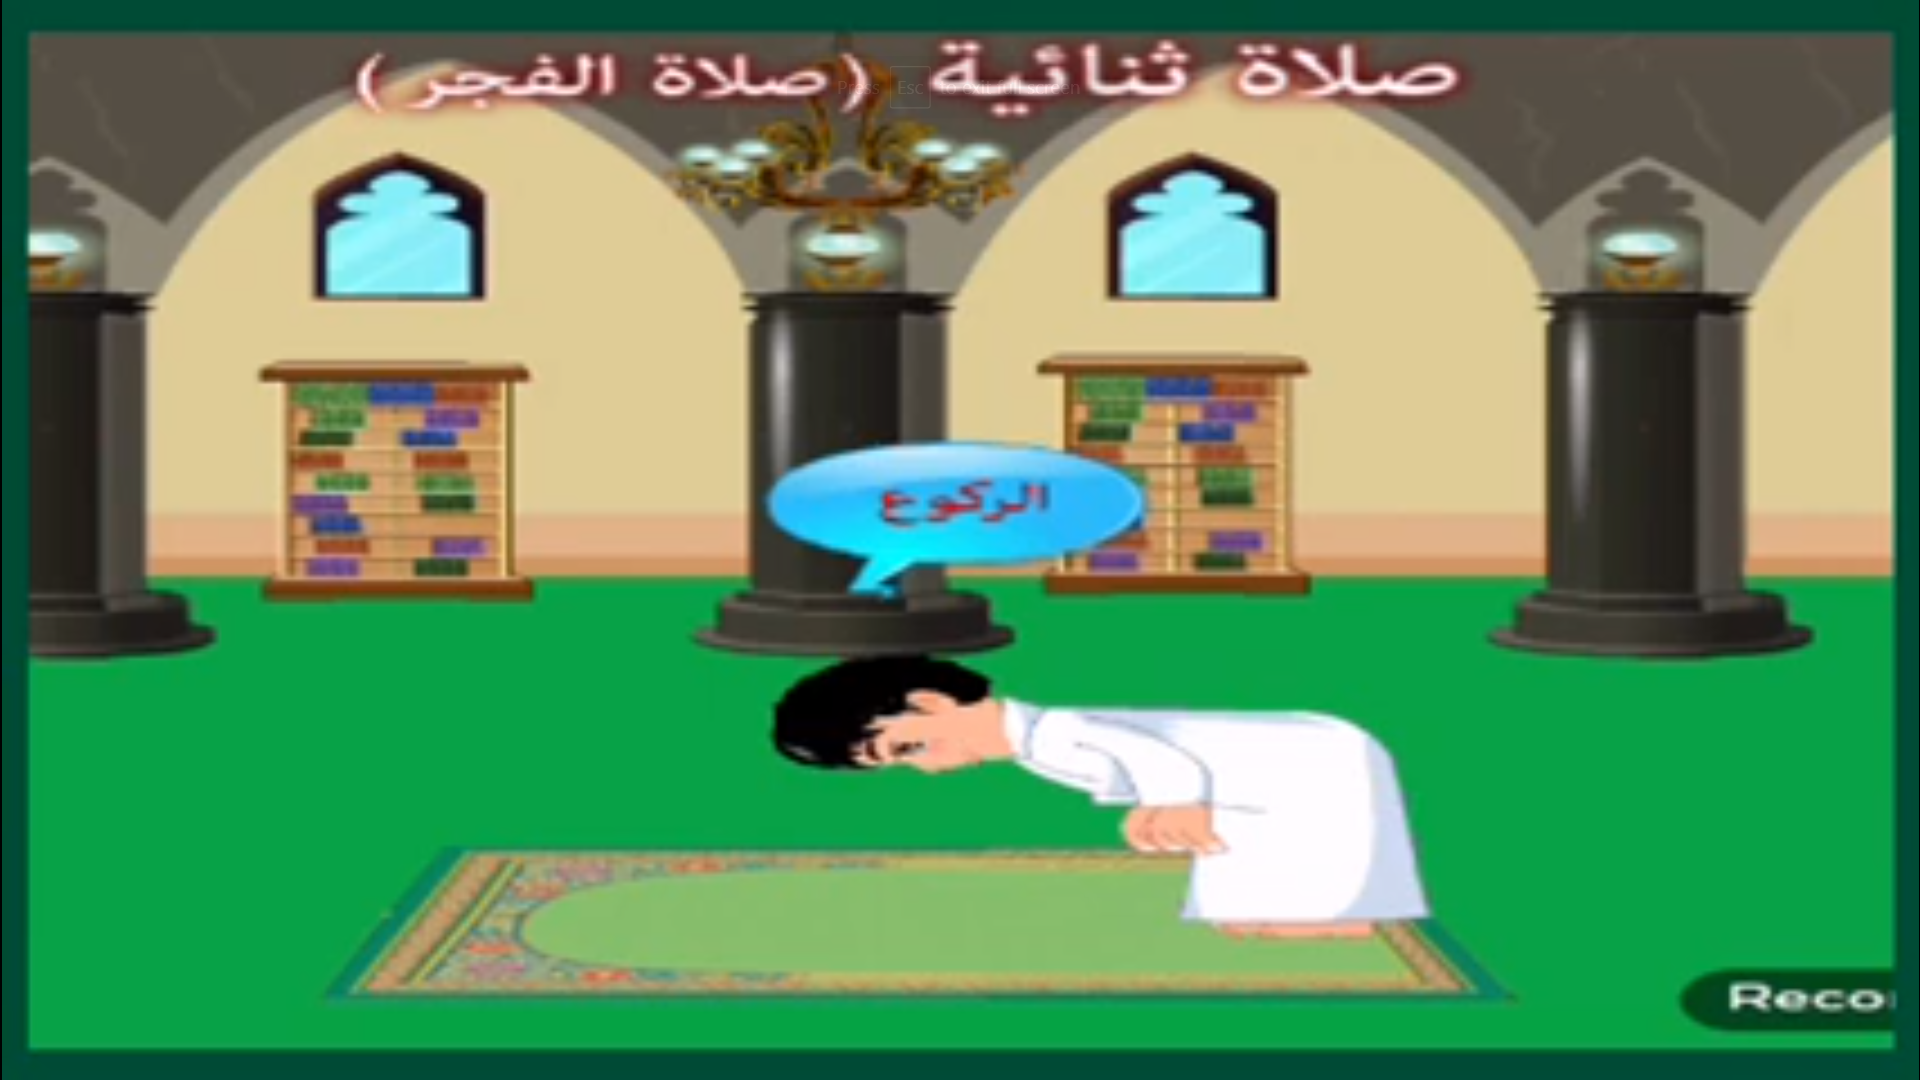ruku: (680, 646, 1720, 1006)
